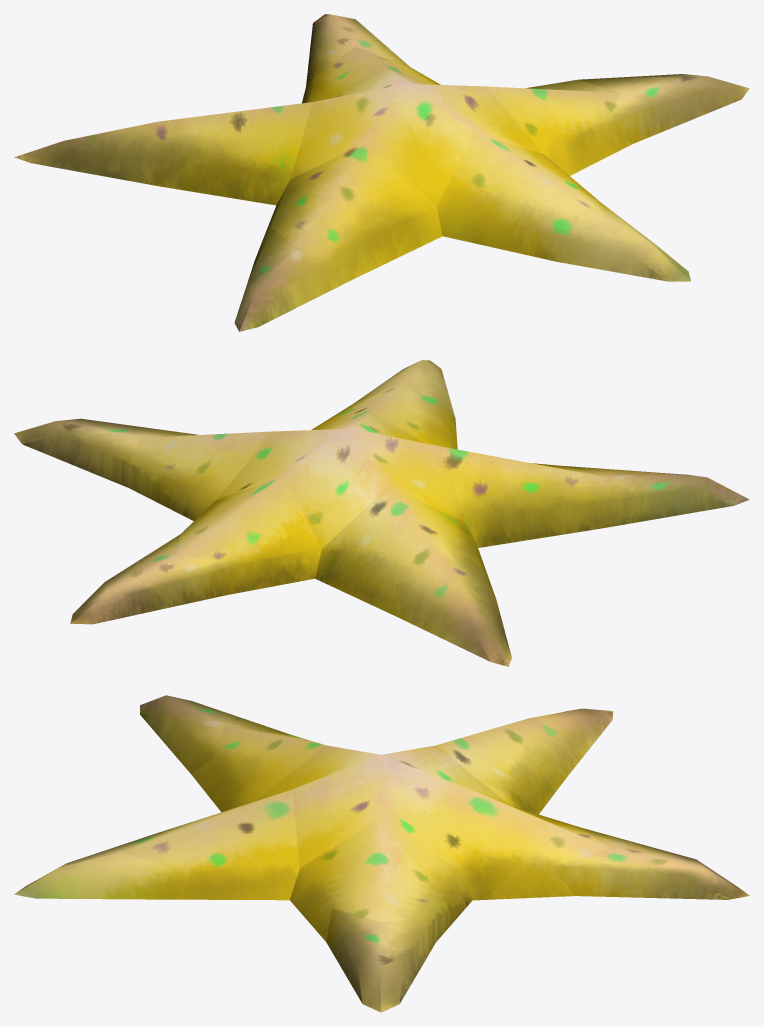
Rendered from seastar01.fbx.
3 renders of one model, top to bottom at view 1: azimuth 30°, elevation 25°; view 2: azimuth 150°, elevation 25°; view 3: azimuth 270°, elevation 25°, orthographic. The views are drawn at different scales.
Visible parts, largest first — view 1: pCylinder1; view 2: pCylinder1; view 3: pCylinder1.
Boxes of the visible parts, box(x1,y1,x2,y2) form: pCylinder1: box(14, 14, 749, 331); pCylinder1: box(14, 360, 749, 666); pCylinder1: box(14, 695, 749, 1012).
Bounding box in the file's own units: 7.83 × 1.08 × 7.88.
